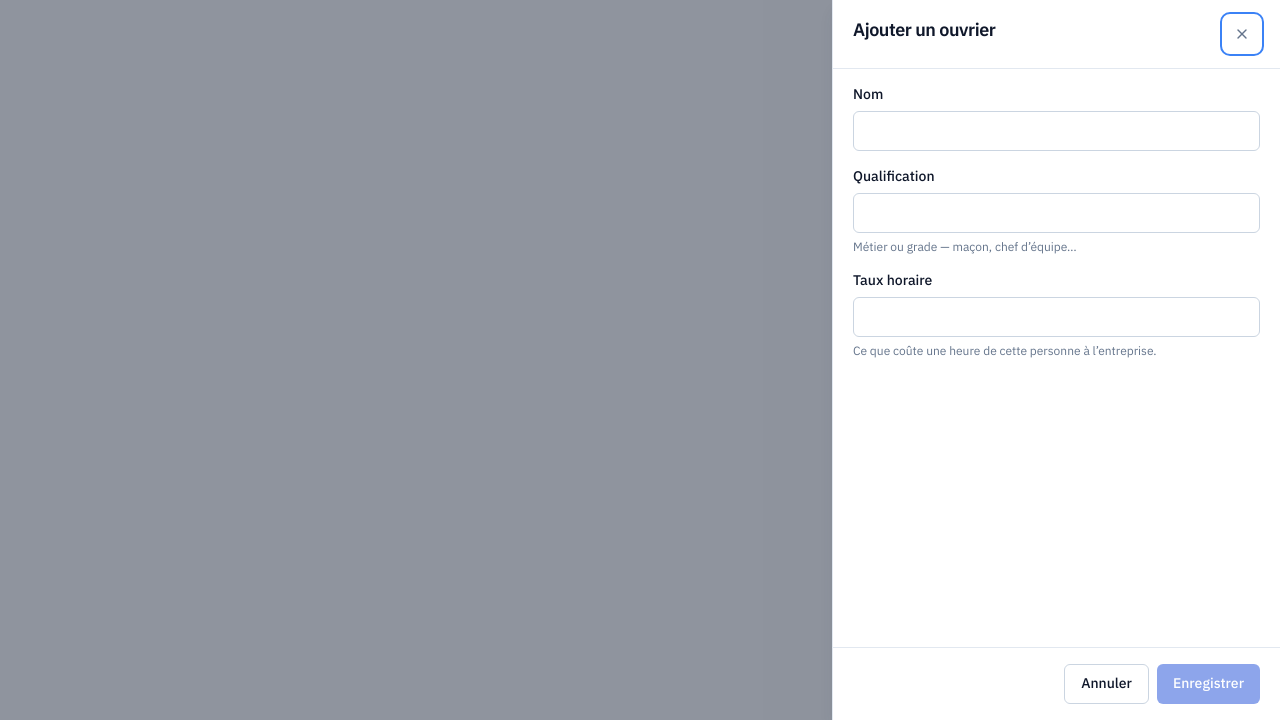
Scenario: WorkerDrawer, creating › cannot be saved while the name or the rate is empty
Expected: the button "Enregistrer" is disabled, [1157,664,1260,704]
Type "Amina Cherif" into the field labelled "Nom" at (1056, 131), box [853,111,1260,151]
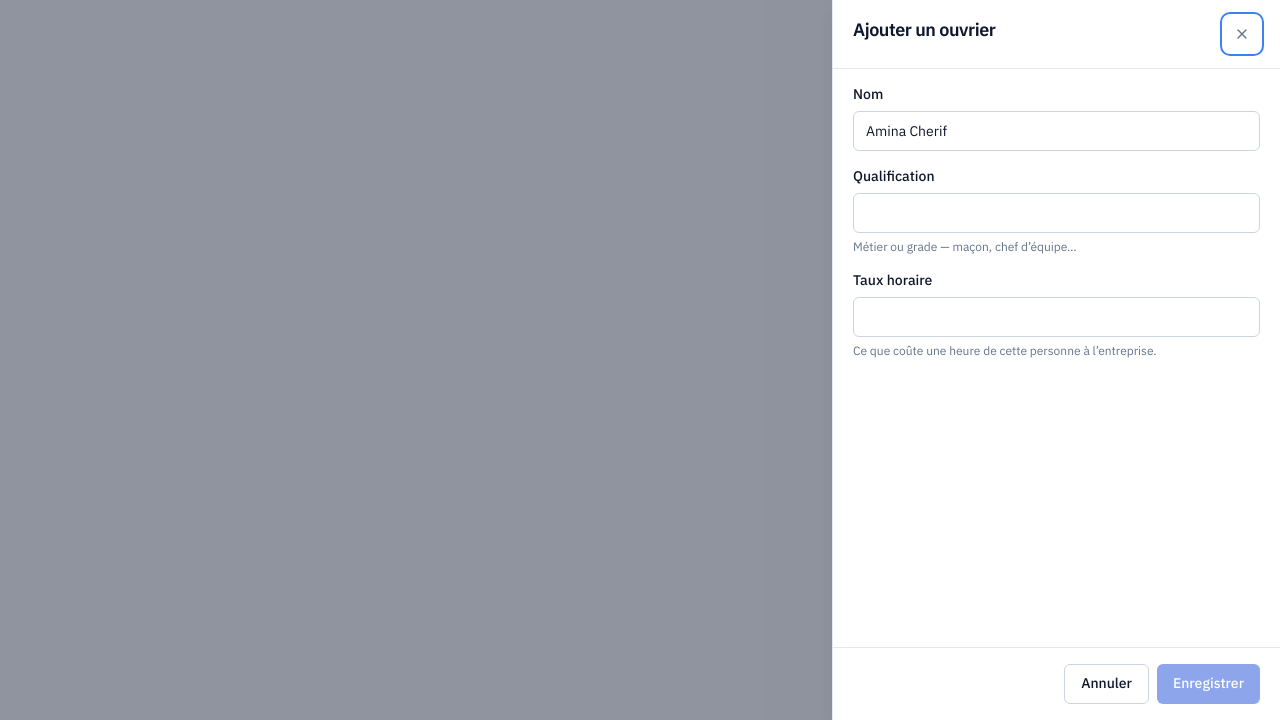
Type "16" into the number field labelled "Taux horaire" at (1056, 317), box [853,297,1260,337]
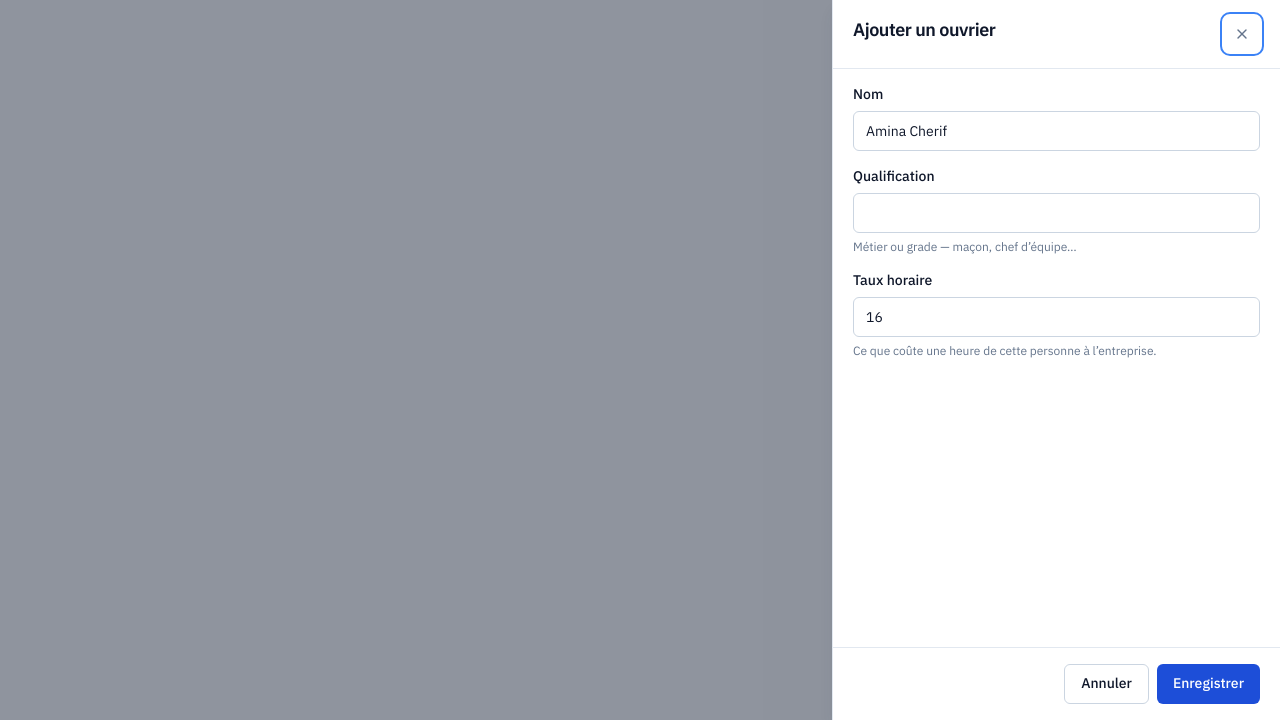
Result: the button "Enregistrer" is enabled at [1157,664,1260,704]
